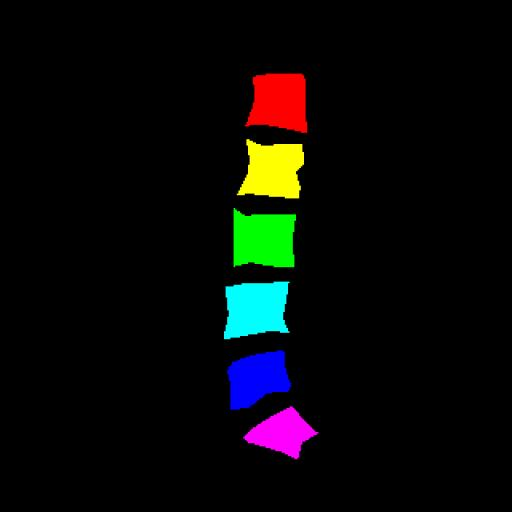L1: (245, 76, 306, 132)
L2: (237, 139, 302, 198)
L3: (234, 210, 294, 266)
L4: (224, 282, 289, 338)
L5: (227, 351, 288, 408)
S1: (244, 406, 318, 458)
